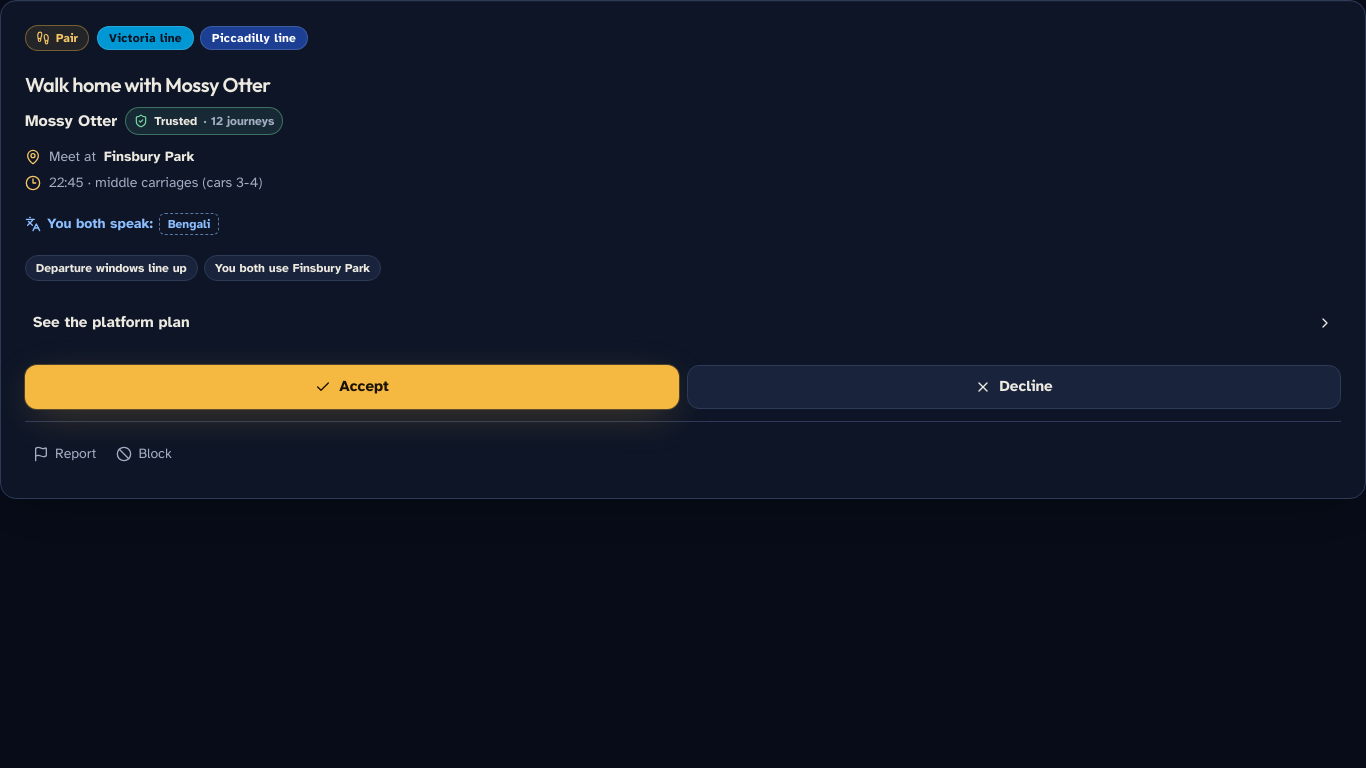
<MatchCard> accept flow › asks for confirmation before declining
The image size is (1366, 768).
Click the button "Decline" at (1014, 386), box [687, 364, 1341, 408]
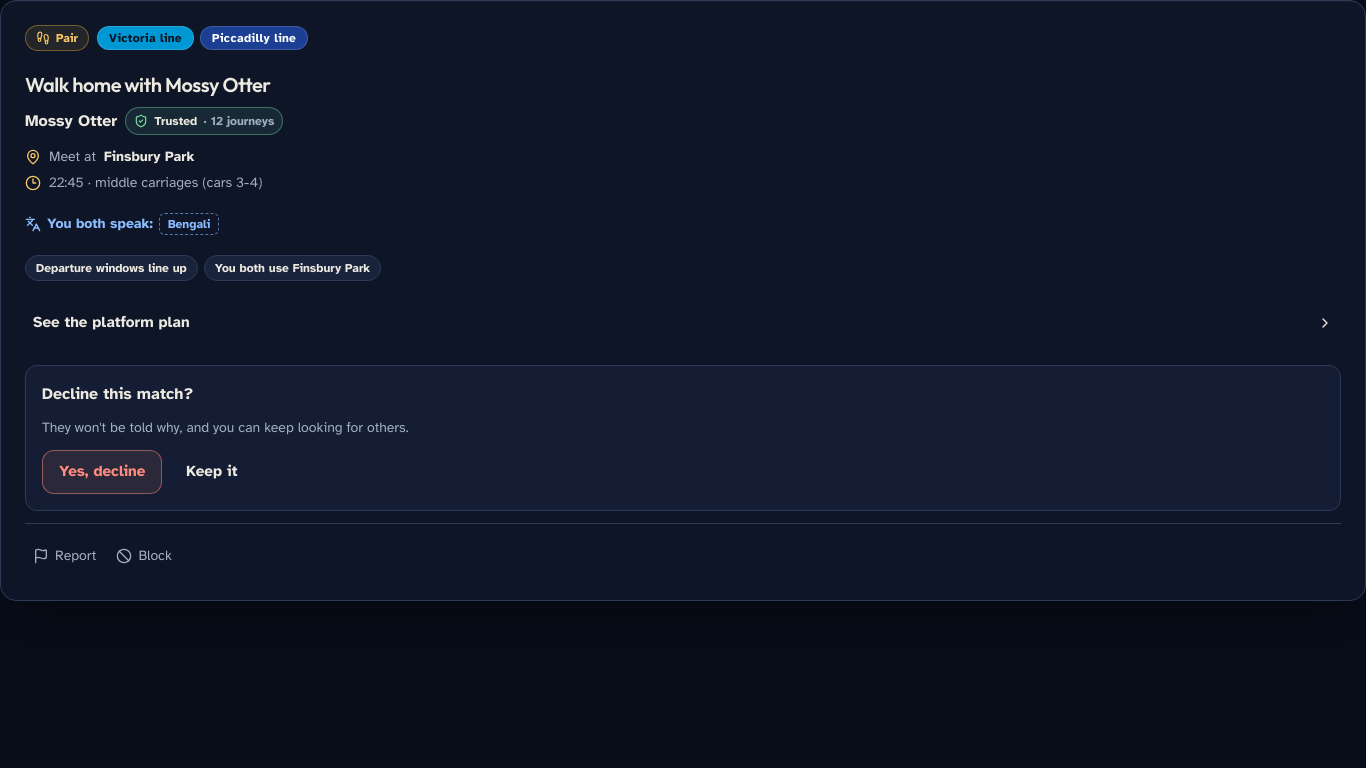
Click the button "Yes, decline" at (102, 472), box [42, 450, 162, 494]
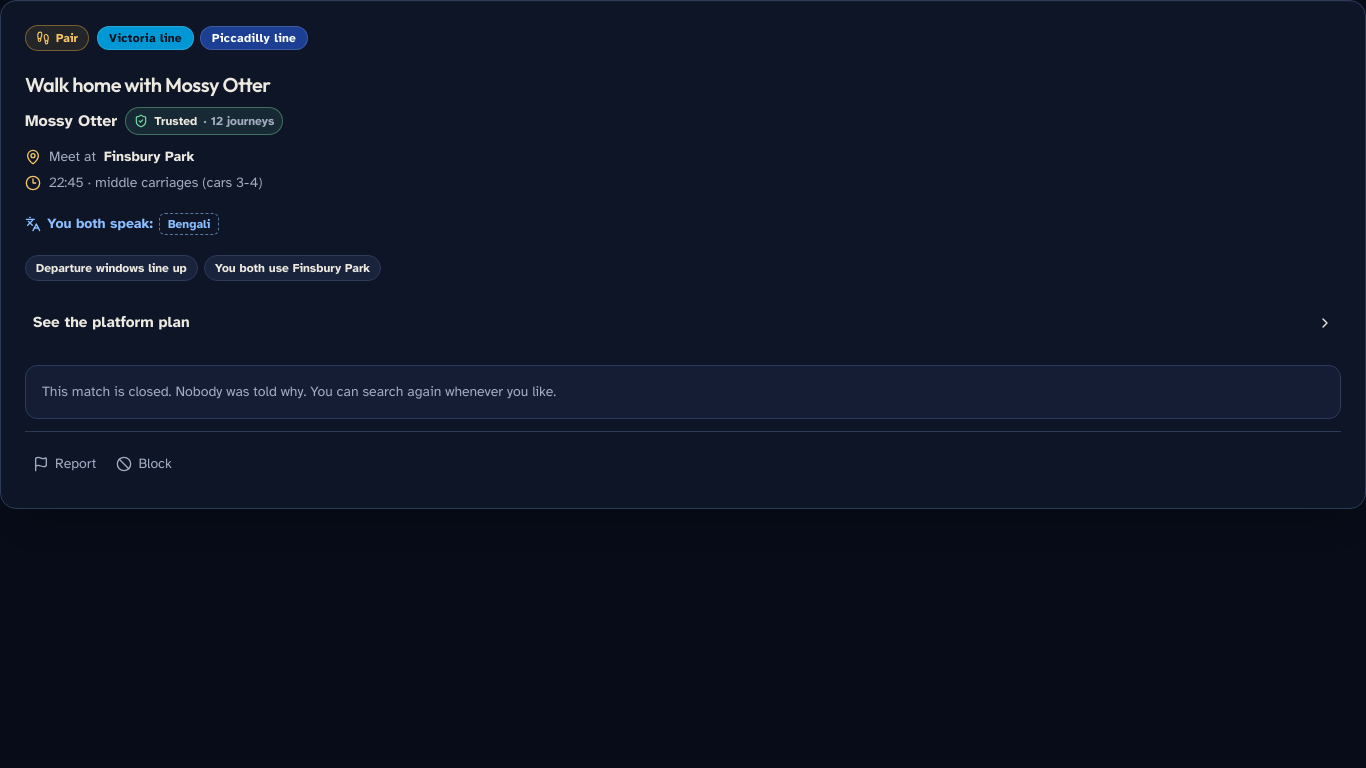
Expected: the text "This match is closed" is shown, [42, 382, 556, 400]
